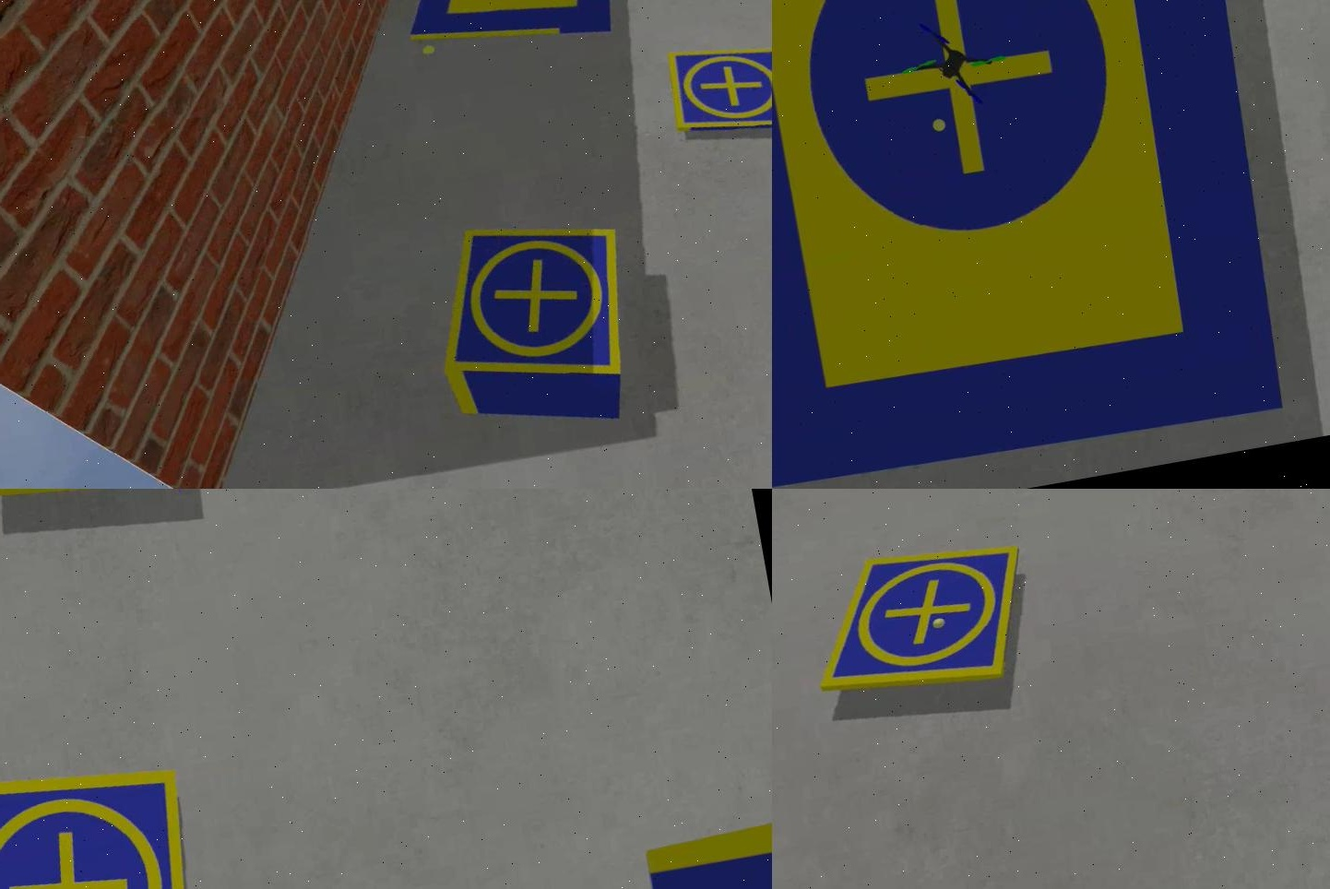large_base: (771, 1, 1307, 490), (386, 1, 632, 68)
small_base: (417, 205, 639, 406), (799, 535, 1036, 705), (0, 747, 216, 889), (663, 32, 771, 148), (0, 490, 203, 516)
